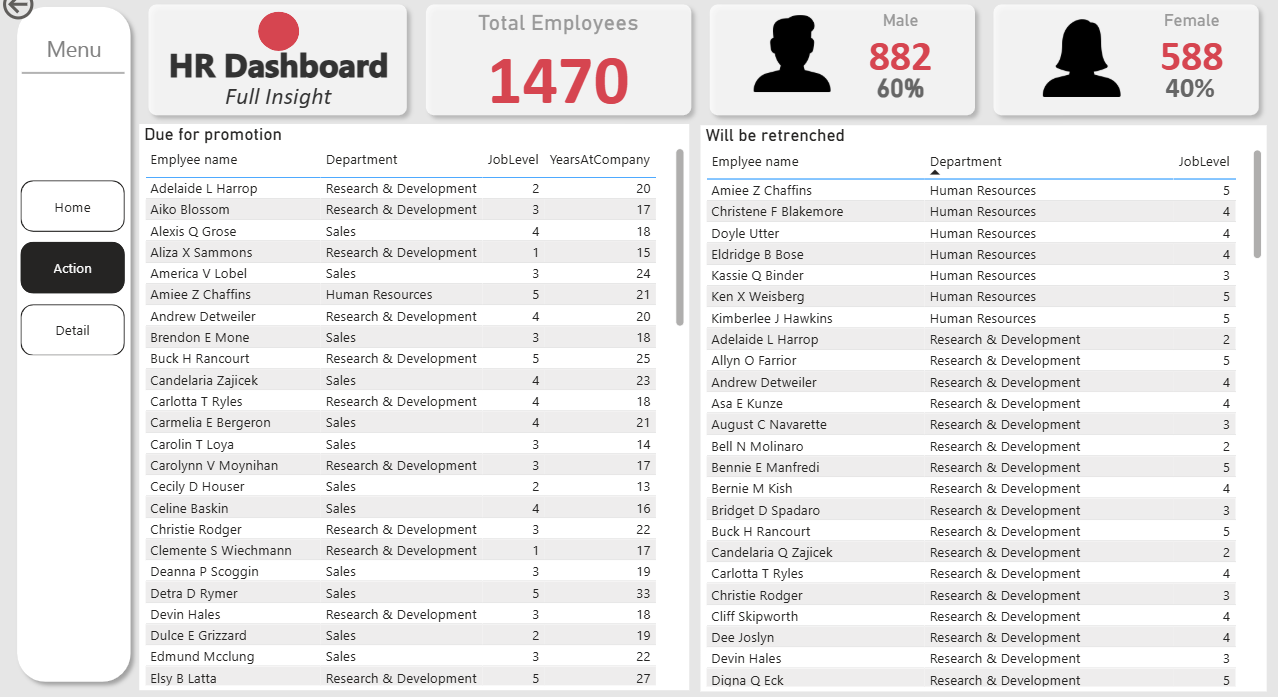

The dashboard page shown, as its layout file describes it:
{"tool":"powerbi","page":{"name":"Action","canvas":[1280,720],"ordinal":1},"visuals":[{"type":"shape","box":[9.8,13.5,130.1,684.7],"z":0},{"type":"shape","box":[693.5,11.7,280.1,127.4],"z":1000},{"type":"shape","box":[973.6,11.7,280.1,127.4],"z":2000},{"type":"shape","box":[140.1,11.7,273.3,127.4],"z":3000},{"type":"shape","box":[413.4,11.7,280.1,127.4],"z":4000},{"type":"textbox","box":[148.8,52.5,255.8,59.3],"z":5000},{"type":"textbox","box":[193.5,90.6,166,39.8],"z":6000},{"type":"shape","box":[256.8,27.2,40.9,38.9],"z":7000},{"type":"card","title":"Total Employees","fields":{"Values":["All Measures.Total Emp"]},"box":[444.5,26.3,217.9,98.2],"z":8000},{"type":"card","title":"Male","fields":{"Values":["All Measures.Male"]},"box":[837.4,26.3,108.9,65.2],"z":9000},{"type":"card","title":"Male","fields":{"Values":["All Measures.% Male"]},"box":[856.9,84.6,69.1,33.1],"z":10000},{"type":"card","title":"Female","fields":{"Values":["All Measures.Female"]},"box":[1124.4,26.3,108.9,65.2],"z":11000},{"type":"card","title":"Male","fields":{"Values":["All Measures.% Female"]},"box":[1143.8,84.6,69.1,33.1],"z":12000},{"type":"image","box":[740.2,26.3,86.6,85.6],"z":13000},{"type":"image","box":[1027.1,28.2,86.6,89.5],"z":14000},{"type":"tableEx","title":"Due for promotion","fields":{"Values":["HR Analytics Data.Emplyee name","HR Analytics Data.Department","HR Analytics Data.JobLevel","HR Analytics Data.YearsAtCompany"]},"box":[139.9,138.7,543.6,559.5],"z":15000},{"type":"tableEx","title":"Will be retrenched","fields":{"Values":["HR Analytics Data.Emplyee name","HR Analytics Data.Department","HR Analytics Data.JobLevel"]},"box":[693.3,139.9,559.5,559.5],"z":16000},{"type":"actionButton","box":[0,0,100,40],"z":17000},{"type":"textbox","box":[9.6,43.9,130.4,49.4],"z":17002},{"type":"shape","box":[23.3,74.1,101.5,27.4],"z":17003},{"type":"pageNavigator","box":[22.1,193.9,103.1,174.2],"z":17004}]}

Visuals, with their boxes on the page's 1280x720 design canvas (x1, y1, x2, y2). These are canvas units, not pixel positions in the 1278x697 screenshot, which may show the page scaled, cropped or inside an application window:
shape: pyautogui.locateOnScreen(10, 14, 140, 698)
shape: pyautogui.locateOnScreen(694, 12, 974, 139)
shape: pyautogui.locateOnScreen(974, 12, 1254, 139)
shape: pyautogui.locateOnScreen(140, 12, 413, 139)
shape: pyautogui.locateOnScreen(413, 12, 694, 139)
textbox: pyautogui.locateOnScreen(149, 52, 405, 112)
textbox: pyautogui.locateOnScreen(194, 91, 360, 130)
shape: pyautogui.locateOnScreen(257, 27, 298, 66)
"Total Employees" card: pyautogui.locateOnScreen(444, 26, 662, 124)
"Male" card: pyautogui.locateOnScreen(837, 26, 946, 92)
"Male" card: pyautogui.locateOnScreen(857, 85, 926, 118)
"Female" card: pyautogui.locateOnScreen(1124, 26, 1233, 92)
"Male" card: pyautogui.locateOnScreen(1144, 85, 1213, 118)
image: pyautogui.locateOnScreen(740, 26, 827, 112)
image: pyautogui.locateOnScreen(1027, 28, 1114, 118)
"Due for promotion" tableEx: pyautogui.locateOnScreen(140, 139, 684, 698)
"Will be retrenched" tableEx: pyautogui.locateOnScreen(693, 140, 1253, 699)
actionButton: pyautogui.locateOnScreen(0, 0, 100, 40)
textbox: pyautogui.locateOnScreen(10, 44, 140, 93)
shape: pyautogui.locateOnScreen(23, 74, 125, 102)
pageNavigator: pyautogui.locateOnScreen(22, 194, 125, 368)
